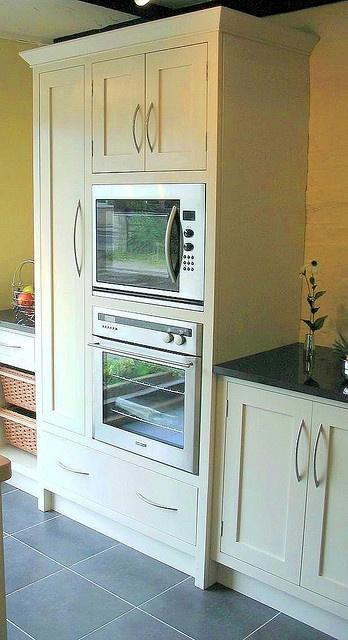Lemari: (17, 4, 222, 590)
